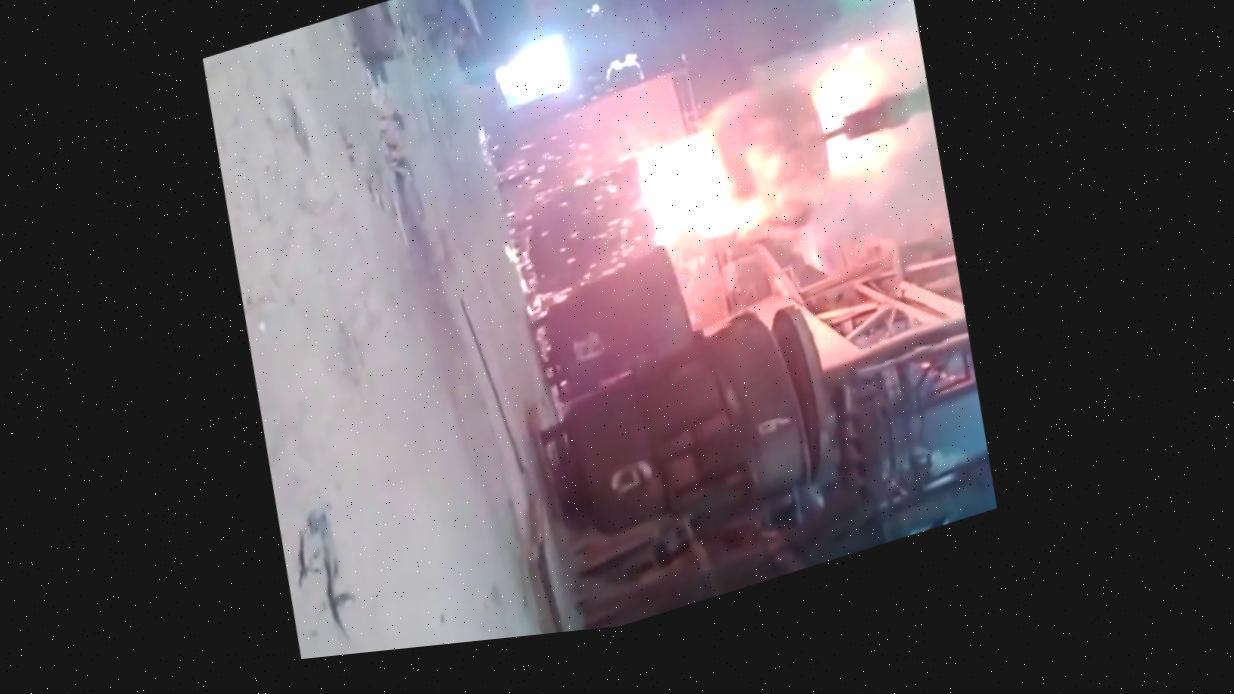fire: (570, 31, 938, 321)
